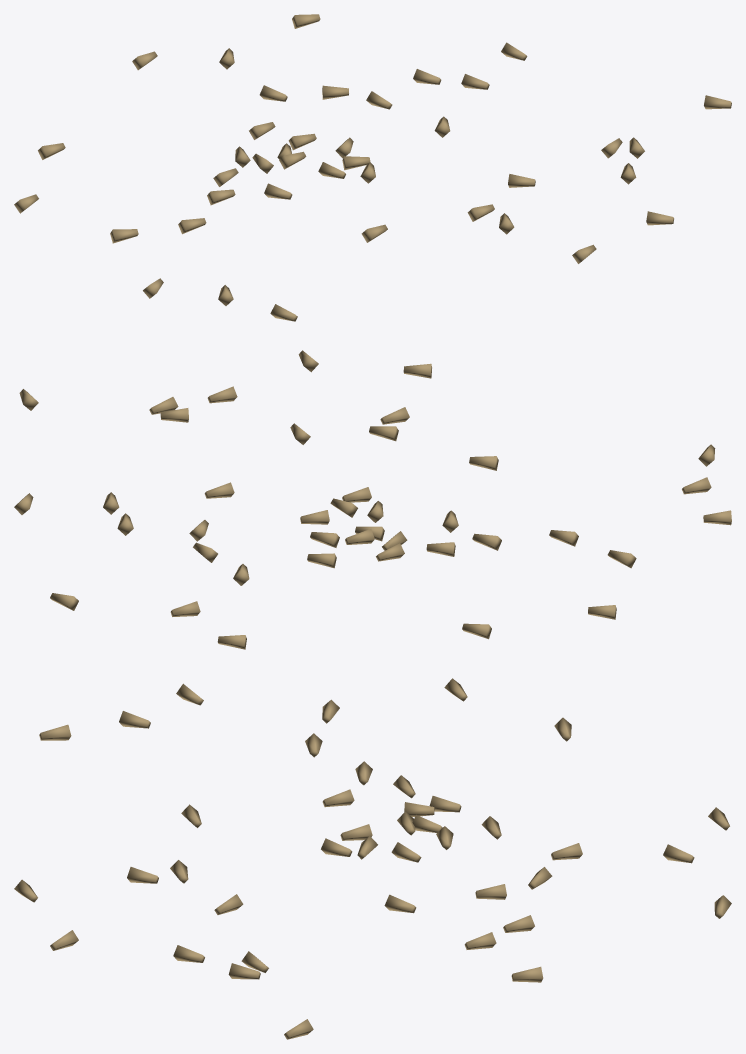
Rendered from wood_shavings.glb.
3 renders of one model, top to bottom at view 1: azimuth 30°, elevation 25°; view 2: azimuth 150°, elevation 25°; view 3: azimuth 270°, elevation 25°, orthographic. The views are drawn at different scales.
Visible parts, largest first — view 1: wood_shavings; view 2: wood_shavings; view 3: wood_shavings.
Part boxes in pixels (x1,y1,x2,y2): wood_shavings: [14, 14, 731, 321]; wood_shavings: [14, 350, 731, 649]; wood_shavings: [14, 678, 731, 1039].
Bounding box in the file's own units: 1.13 × 0.024 × 0.9767.
